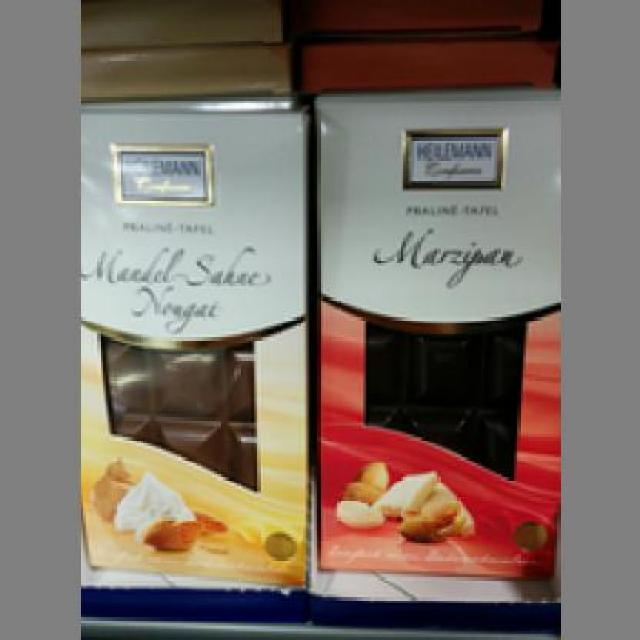Chocolate: (312, 88, 558, 574), (76, 100, 310, 586)
